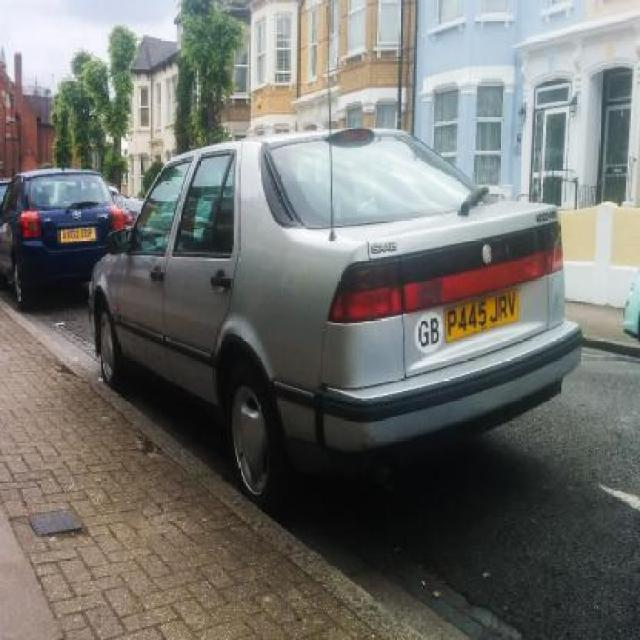License-Plates: (444, 285, 520, 344), (58, 226, 97, 243)
